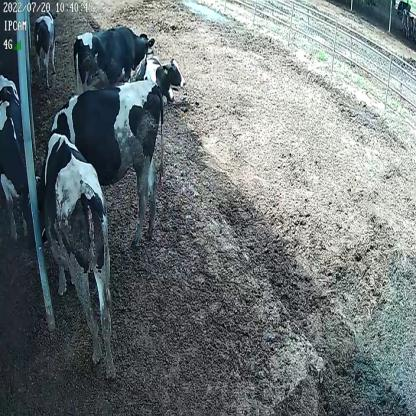cow: (48, 77, 166, 249), (38, 134, 118, 375), (0, 72, 42, 242), (71, 22, 155, 88), (139, 50, 187, 103), (33, 7, 58, 74)
